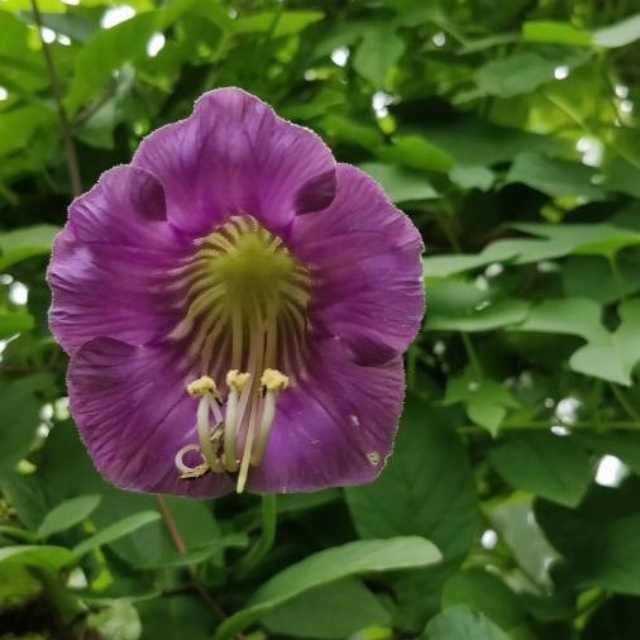obstacle: (38, 76, 438, 625)
